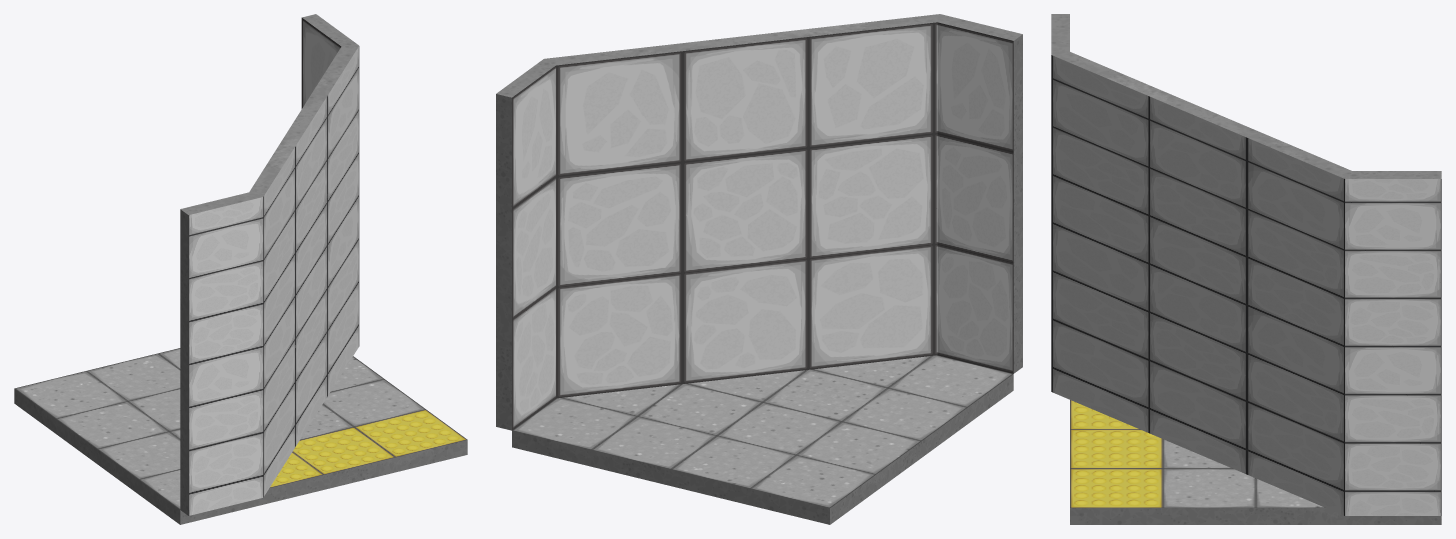
File: SM_Wall_Corner_B.fbx
The picture shows the model from 3 angles, left to right: view 1: azimuth 30°, elevation 25°; view 2: azimuth 150°, elevation 25°; view 3: azimuth 270°, elevation 25°; orthographic projection. The views are drawn at different scales.
Visible parts, largest first — view 1: SM_Wall_Corner_B; view 2: SM_Wall_Corner_B; view 3: SM_Wall_Corner_B.
Boxes of the visible parts, bbox=[...] form: SM_Wall_Corner_B: bbox=[14, 14, 467, 524]; SM_Wall_Corner_B: bbox=[496, 14, 1022, 524]; SM_Wall_Corner_B: bbox=[1051, 14, 1441, 524].
Bounding box in the file's own units: 420 × 420 × 420.
